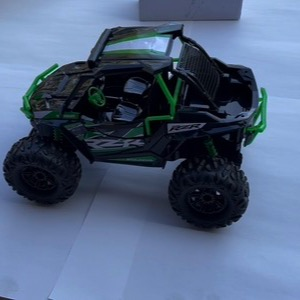polaris: (3, 24, 268, 233)
